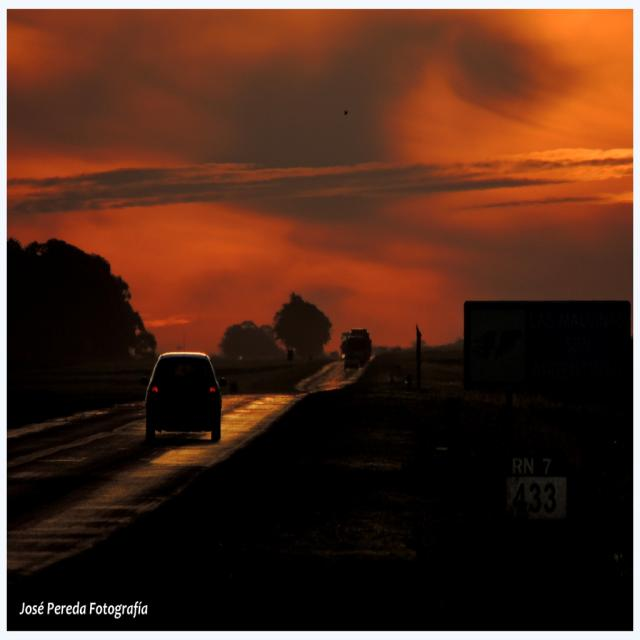car: (142, 345, 227, 439)
